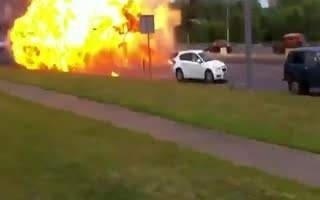fire: (3, 0, 171, 77)
